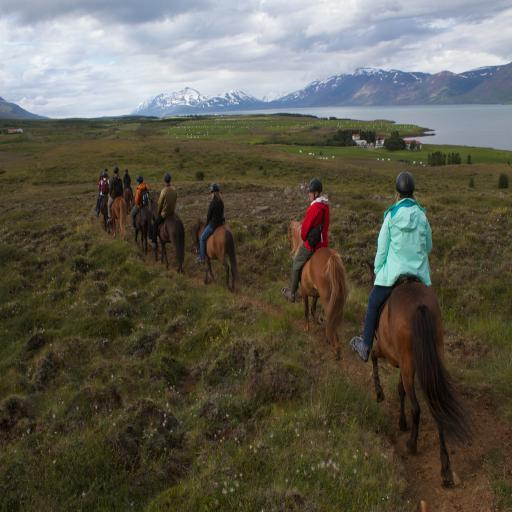horse: (360, 258, 480, 490), (288, 220, 350, 364), (99, 184, 187, 274), (190, 224, 240, 296)
